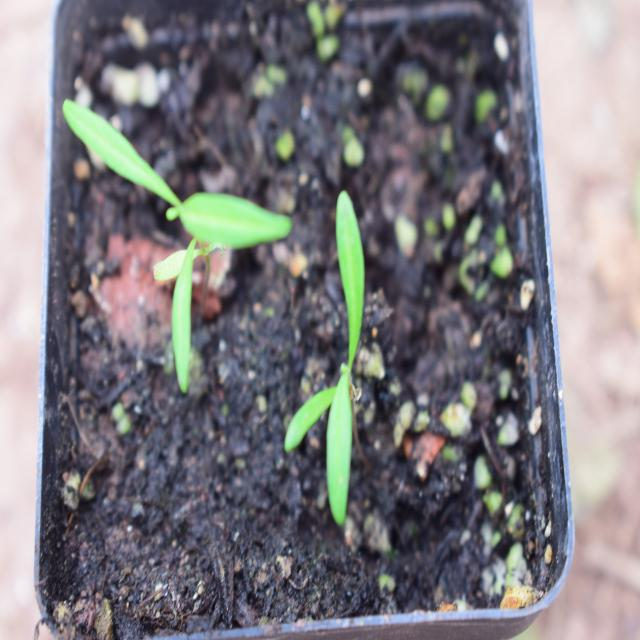white_smart_weed: (254, 147, 412, 556)
